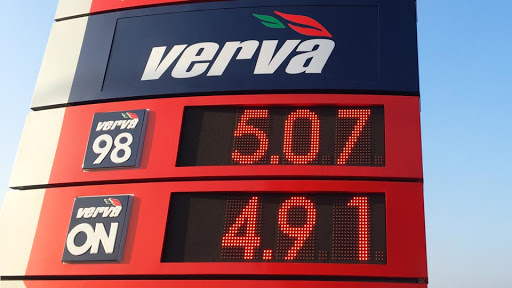ON: (59, 191, 134, 264)
PB98: (83, 107, 146, 170)
